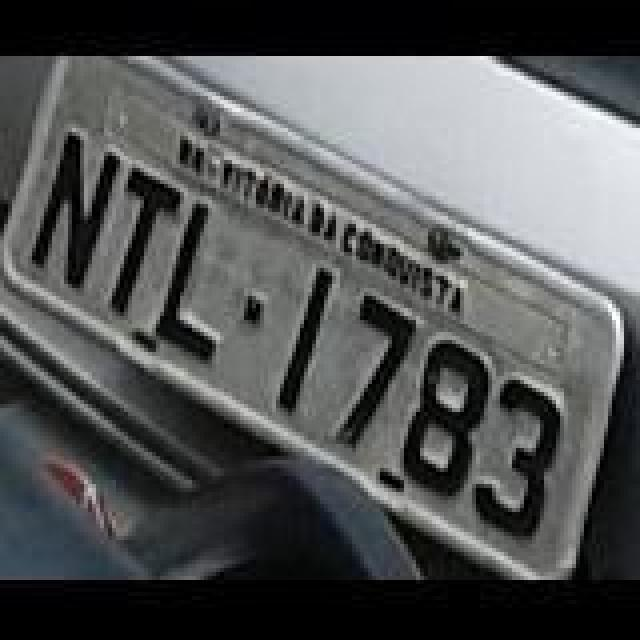1: (274, 260, 334, 420)
3: (476, 372, 564, 540)
7: (338, 292, 414, 460)
8: (390, 330, 490, 502)
L: (156, 202, 228, 374)
N: (34, 114, 110, 318)
T: (94, 158, 178, 338)
